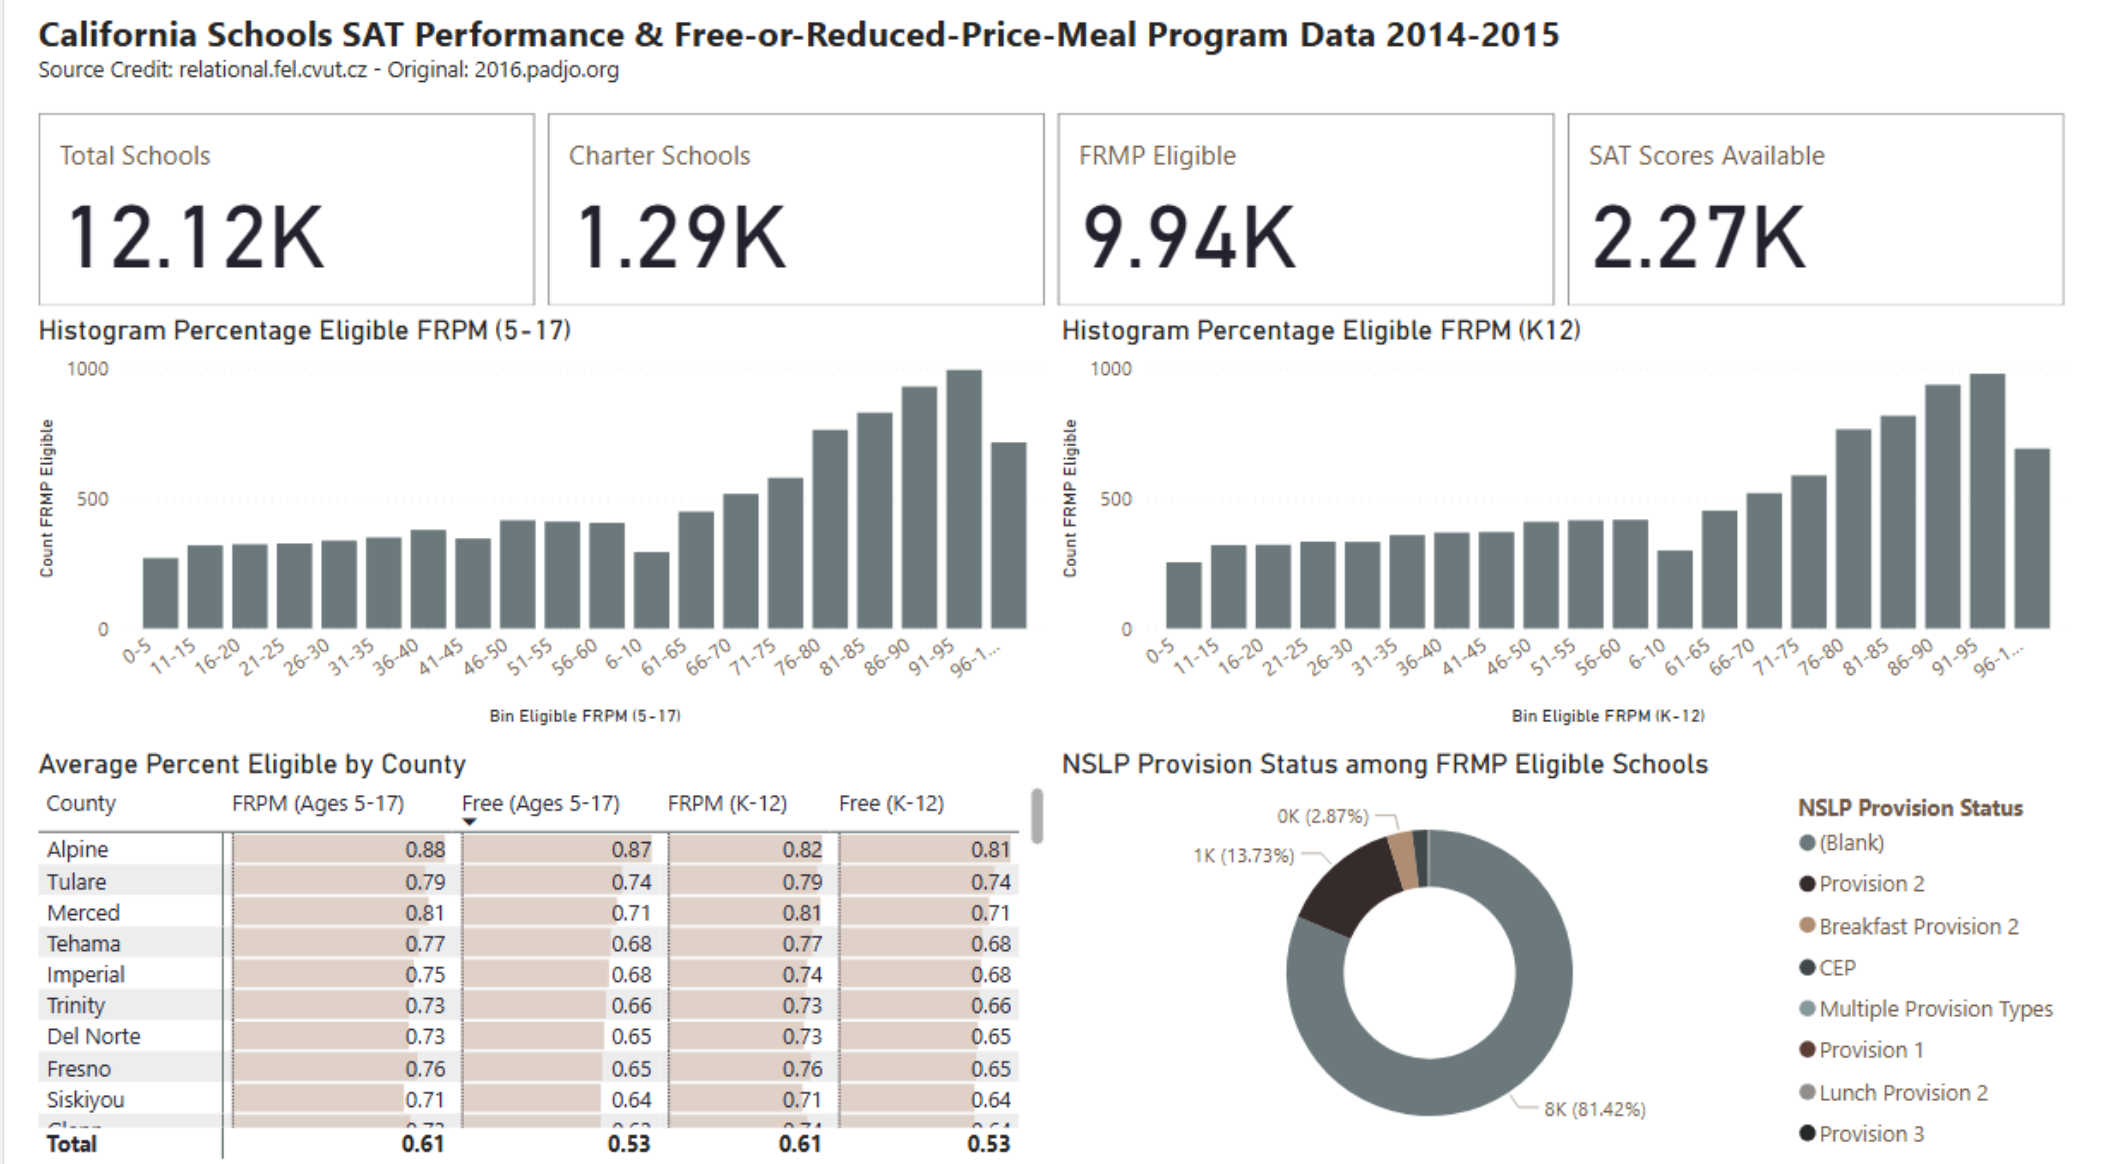

This screenshot's page, from the dashboard's own definition file:
{"tool":"powerbi","page":{"name":"FRMP Overview","canvas":[1280,720],"ordinal":1},"visuals":[{"type":"textbox","box":[16,8,976,64],"z":0},{"type":"cardVisual","fields":{"Data":["Summary Measures.Count Schools","Summary Measures.Count Charter","Summary Measures.FRMP Eligible","Summary Measures.Count SAT Scores Available"]},"box":[16,72,1248,128],"z":1000},{"type":"clusteredColumnChart","title":"Histogram Percentage Eligible FRPM (5-17)","fields":{"Y":["Summary Measures.Count FRMP Eligible"],"Category":["Free-or-Reduced-Meal Eligibility.Bin Eligible FRPM (5-17)"]},"box":[16,200,624,256],"z":2000},{"type":"clusteredColumnChart","title":"Histogram Percentage Eligible FRPM (K12)","fields":{"Y":["Summary Measures.Count FRMP Eligible"],"Category":["Free-or-Reduced-Meal Eligibility.Bin Eligible FRPM (K-12)"]},"box":[640,200,624,256],"z":3000},{"type":"pivotTable","title":"Average Percent Eligible by County","fields":{"Rows":["Schools.County"],"Values":["Avg(Free-or-Reduced-Meal Eligibility.Percent (%) Eligible FRPM (Ages 5-17))","Avg(Free-or-Reduced-Meal Eligibility.Percent (%) Eligible Free (Ages 5-17))","Avg(Free-or-Reduced-Meal Eligibility.Percent (%) Eligible FRPM (K-12))","Avg(Free-or-Reduced-Meal Eligibility.Percent (%) Eligible Free (K-12))"]},"box":[16,464,624,256],"z":4000},{"type":"donutChart","title":"NSLP Provision Status among FRMP Eligible Schools","fields":{"Category":["Free-or-Reduced-Meal Eligibility.NSLP Provision Status"],"Y":["Summary Measures.Count FRMP Eligible"]},"box":[640,464,624,256],"z":5000}]}

Visuals, with their boxes in screenshot pixels (x1, y1, x2, y2), scaled from the page's 1280x720 canvas onto the 2102x1164 screenshot:
textbox: l=26, t=13, r=1629, b=116
cardVisual - Summary Measures.Count Schools x Summary Measures.Count Charter: l=26, t=116, r=2076, b=323
"Histogram Percentage Eligible FRPM (5-17)" clusteredColumnChart: l=26, t=323, r=1051, b=737
"Histogram Percentage Eligible FRPM (K12)" clusteredColumnChart: l=1051, t=323, r=2076, b=737
"Average Percent Eligible by County" pivotTable: l=26, t=750, r=1051, b=1163
"NSLP Provision Status among FRMP Eligible Schools" donutChart: l=1051, t=750, r=2076, b=1163
